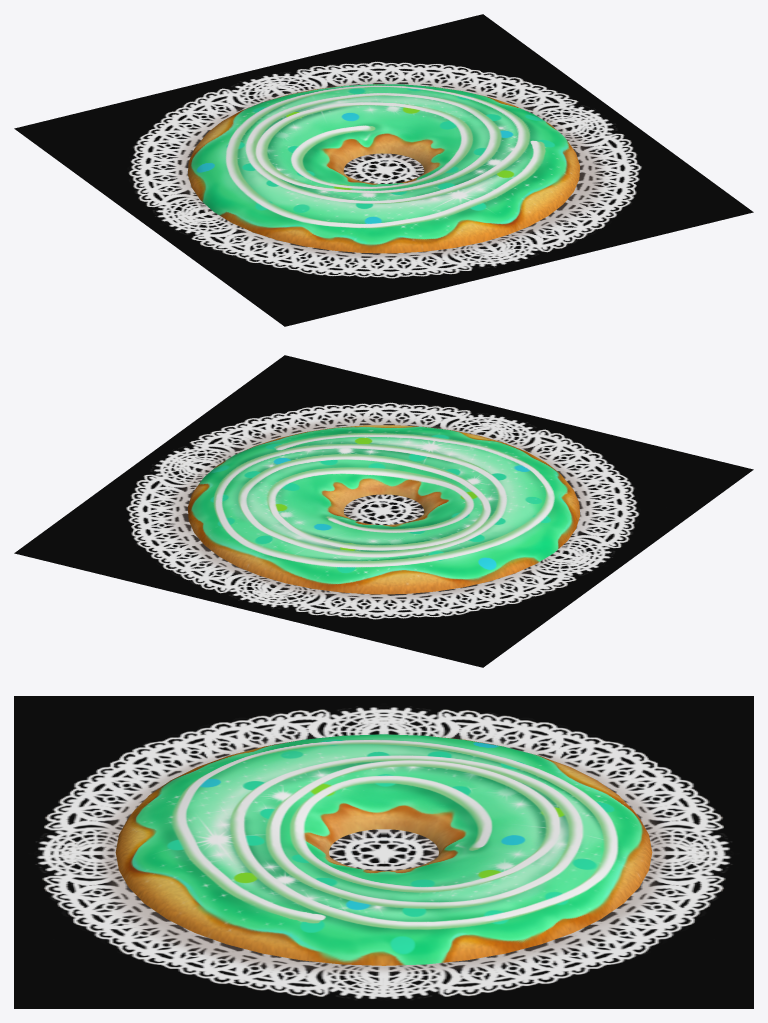
The model's file is WarpC.fbx.
3 renders of one model, top to bottom at view 1: azimuth 30°, elevation 25°; view 2: azimuth 150°, elevation 25°; view 3: azimuth 270°, elevation 25°, orthographic. The views are drawn at different scales.
Visible parts, largest first — view 1: pPlane1, WarpA; view 2: pPlane1, WarpA; view 3: pPlane1, WarpA.
Boxes of the visible parts, x1,y1,x2,y2 form: pPlane1: [14, 14, 753, 326]; WarpA: [188, 84, 579, 253]; pPlane1: [14, 355, 753, 667]; WarpA: [188, 425, 579, 594]; pPlane1: [14, 696, 753, 1008]; WarpA: [115, 734, 652, 965].
Size of the model in its own units: 4.6 by 0.1541 by 4.6.
